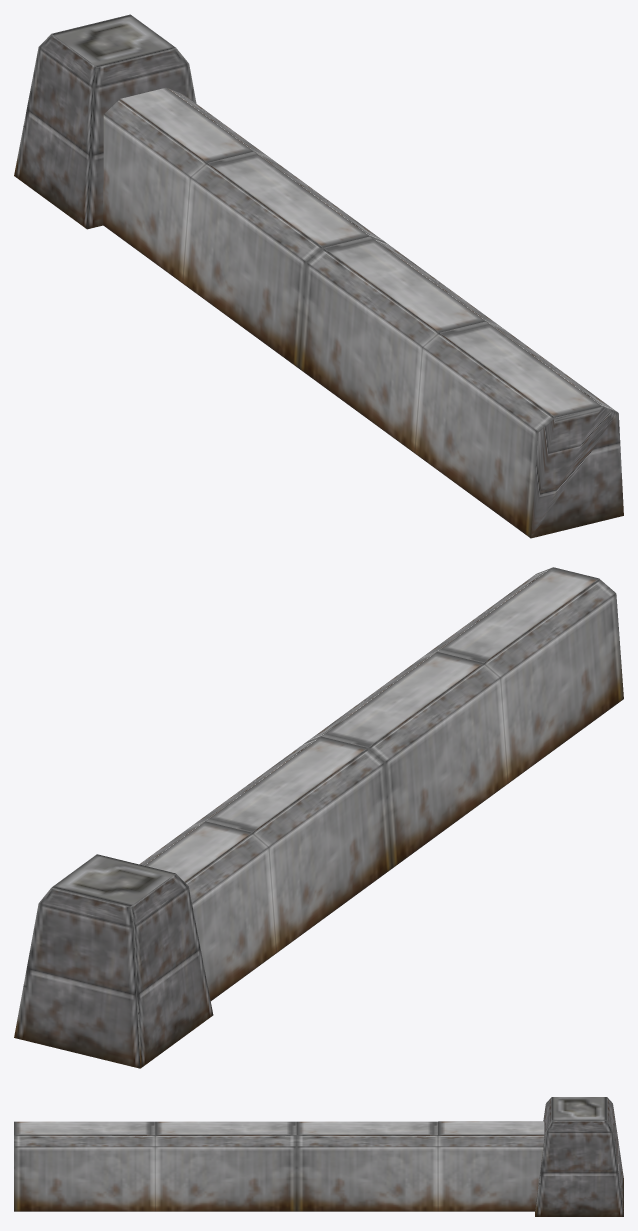
The model's file is s_lightwall.glb.
The picture shows the model from 3 angles, top to bottom: view 1: azimuth 30°, elevation 25°; view 2: azimuth 150°, elevation 25°; view 3: azimuth 270°, elevation 25°; orthographic projection. The views are drawn at different scales.
Parts seen in each view (by area): view 1: S_LightWall; view 2: S_LightWall; view 3: S_LightWall.
Part boxes in pixels (x1,y1,x2,y2): S_LightWall: (14,14,623,538); S_LightWall: (14,567,623,1068); S_LightWall: (14,1097,623,1216).
Bounding box in the file's own units: 4.03 × 4.46 × 27.62.
Materials: 1 (1 with a texture image).
